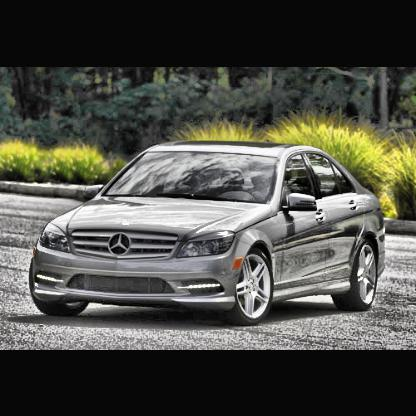Mercedes-Benz C-Class Sedan 2012: (29, 143, 390, 328)
